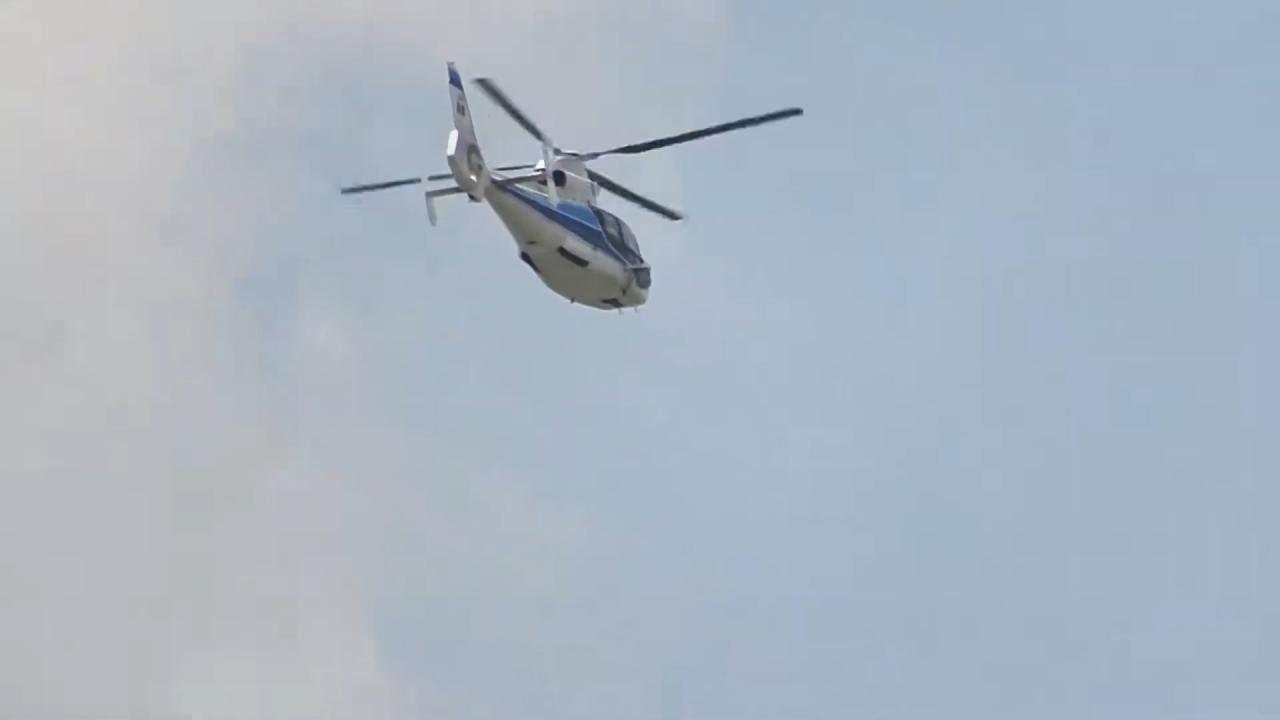Helicopter: (319, 41, 822, 349)
